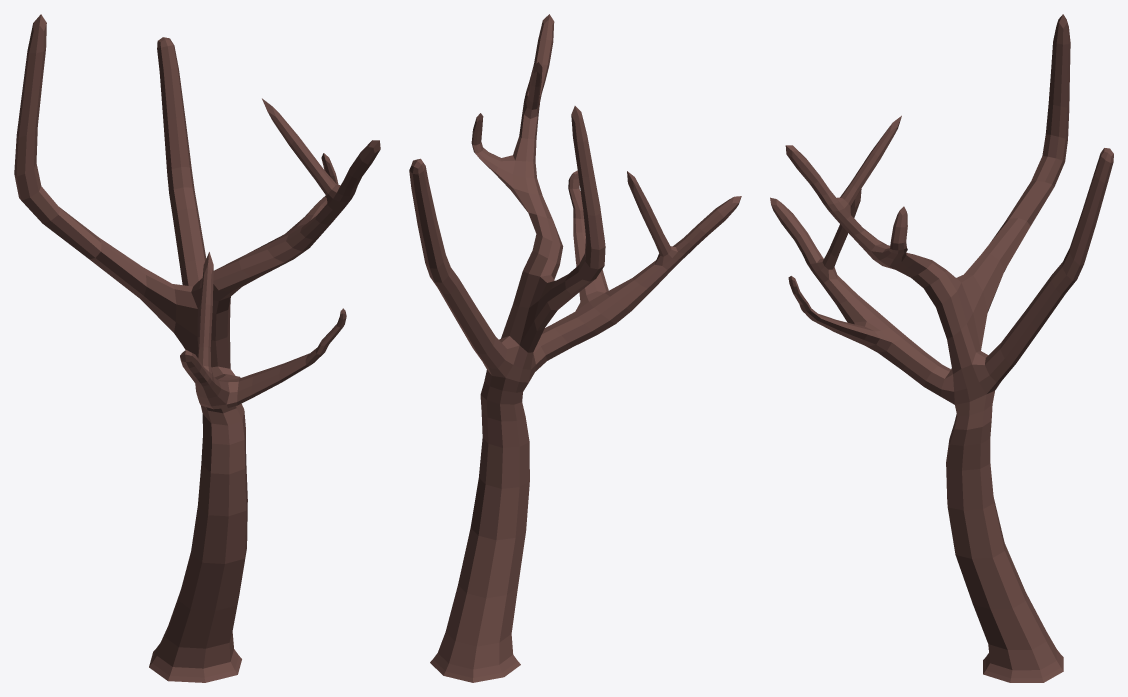
File: CommonTree_Dead_5-optimized.glb
3 views of the same model, side by side, from view 1: azimuth 30°, elevation 25°; view 2: azimuth 150°, elevation 25°; view 3: azimuth 270°, elevation 25° (orthographic). The views are drawn at different scales.
Parts seen in each view (by area): view 1: CommonTree_Dead_5; view 2: CommonTree_Dead_5; view 3: CommonTree_Dead_5.
Boxes of the visible parts, box(x1,y1,x2,y2) form: CommonTree_Dead_5: box(14, 14, 380, 682); CommonTree_Dead_5: box(409, 14, 741, 682); CommonTree_Dead_5: box(770, 14, 1113, 682).
Bounding box in the file's own units: 2.14 × 5.82 × 3.04.
